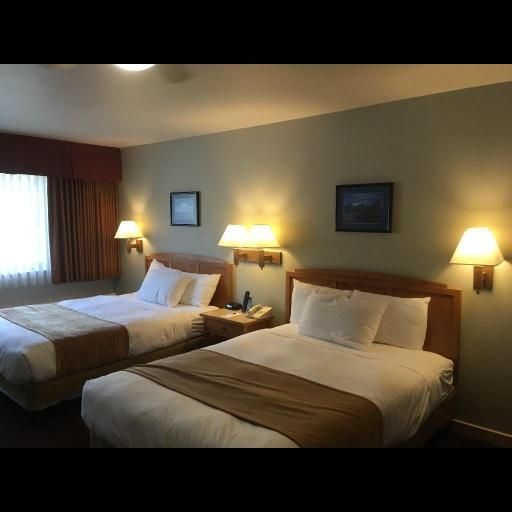clean_bed: (83, 267, 462, 451), (0, 253, 237, 411)
lamp: (211, 218, 291, 272), (452, 226, 508, 296), (115, 216, 147, 258)
organised_pillow: (284, 278, 428, 354), (132, 256, 225, 314)
